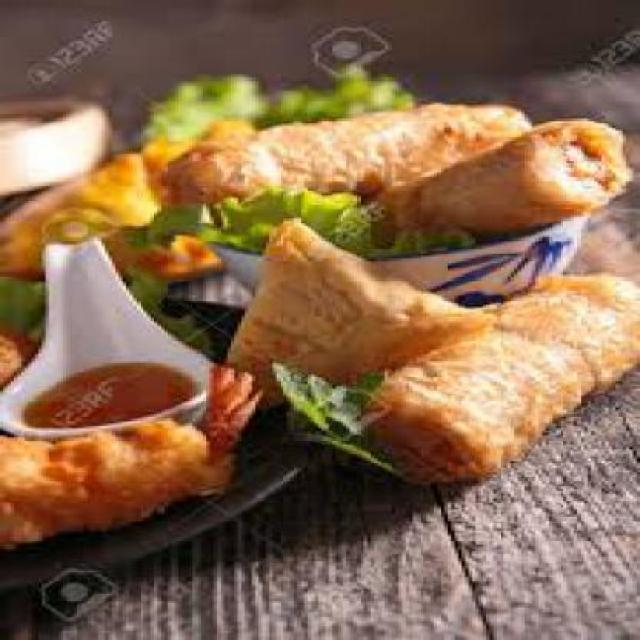samosa: (220, 219, 469, 370)
spring rolls: (172, 95, 630, 232), (378, 266, 636, 468)
